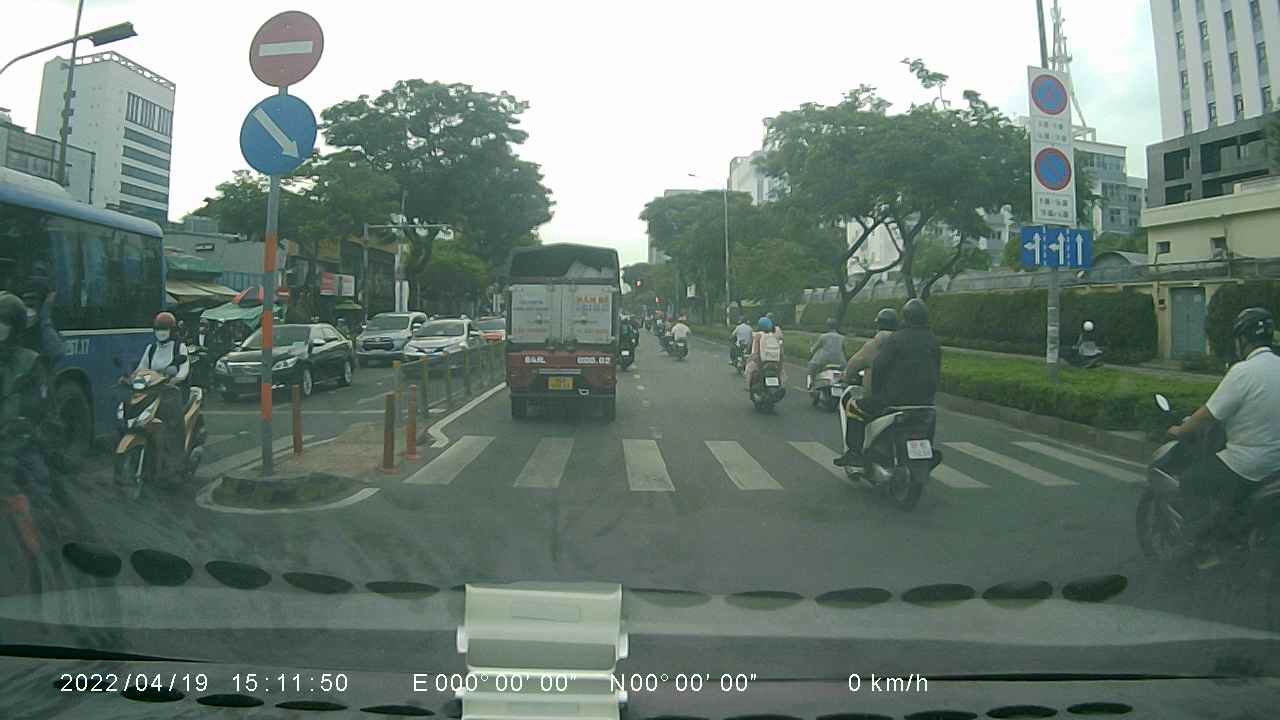Bien khac: (1017, 223, 1097, 268), (1026, 69, 1070, 119)
Cam di nguoc chieu: (245, 3, 326, 86)
Cam do xe: (1033, 145, 1072, 191)
Huong di phai re phai: (240, 94, 316, 173)
